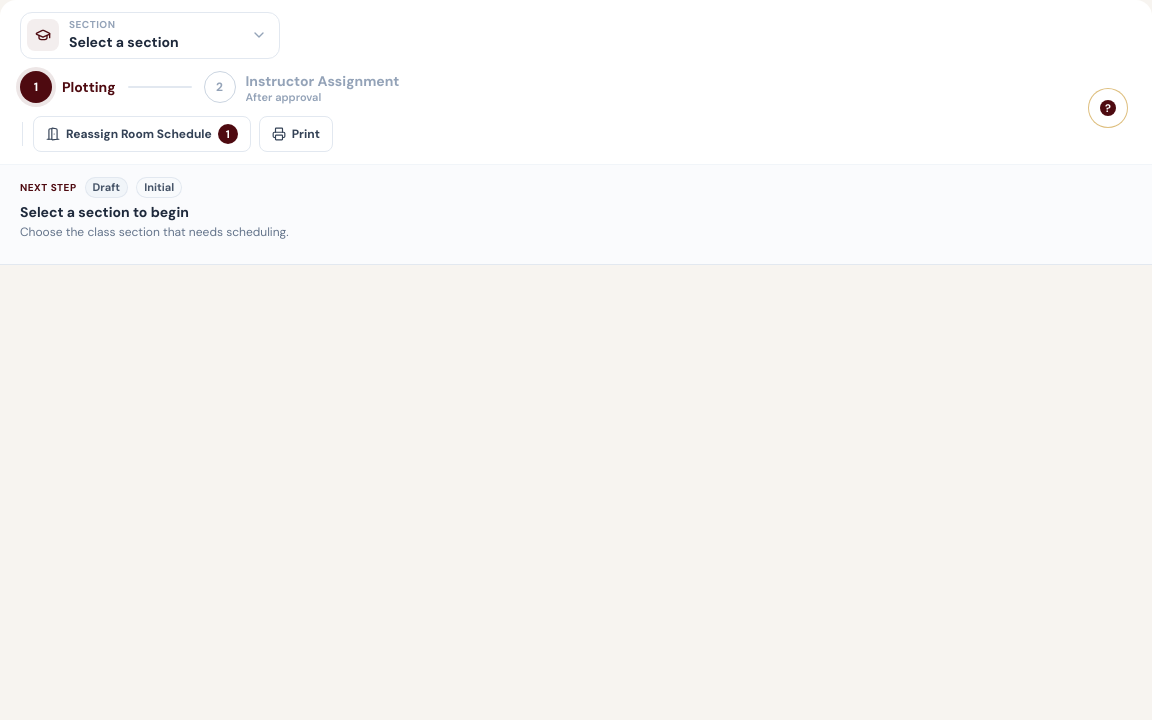
Scenario: Room recovery workflow › reuses the just-loaded list when opening the Reassign Room Schedule modal
Expected: the message named "Pending room schedule reassignments" is shown, [218,124,238,144]
Click the button "Reassign Room Schedule 1".
click(142, 134)  # box [33,116,251,152]
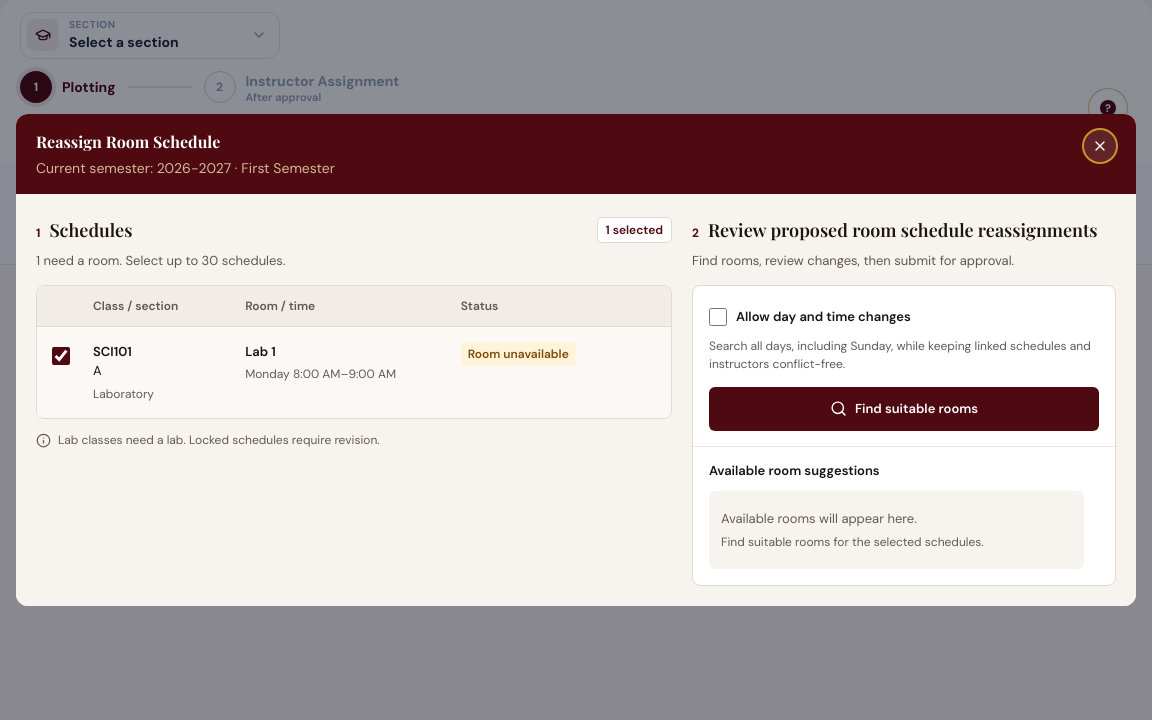
Result: the text "SCI101" is shown at [93,343,132,360]
